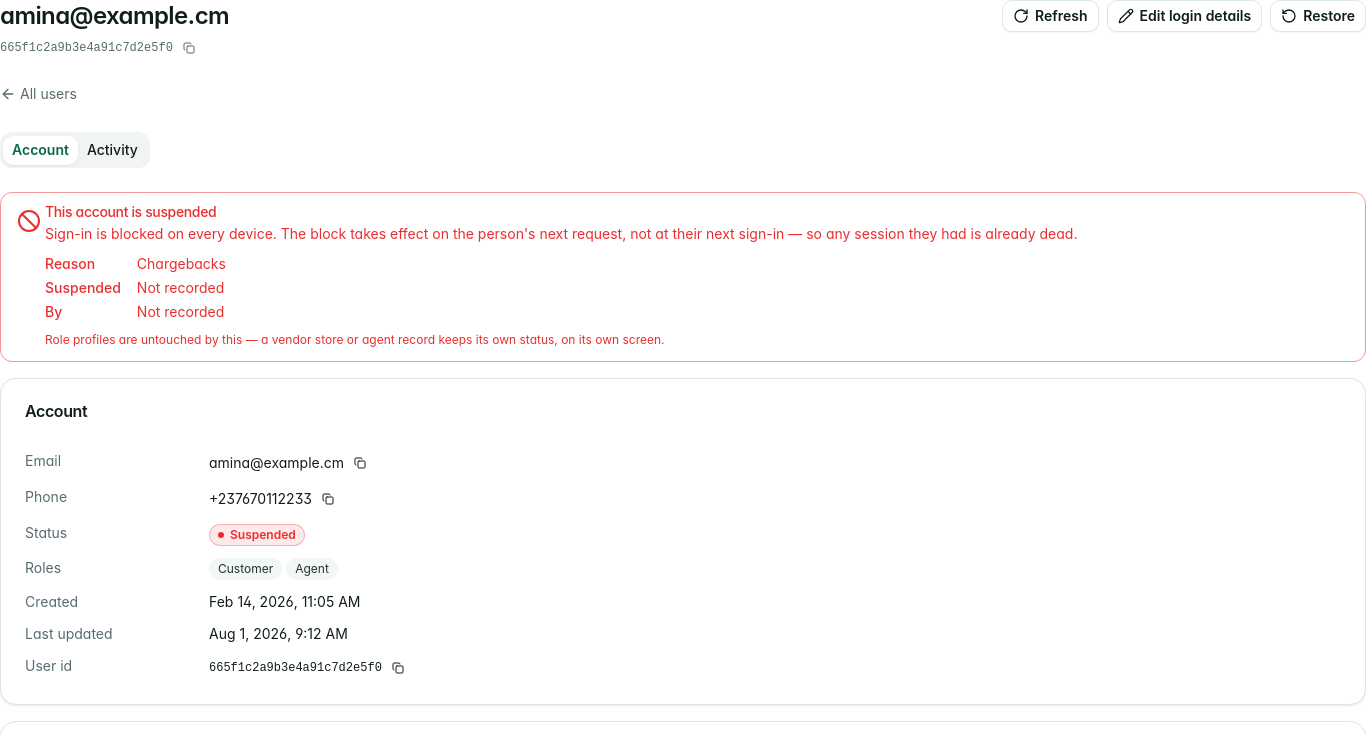
Test case: after a write › refetches the record rather than merging the flat write response
Check: the heading "This account is suspended" is shown, box x1=45 y1=203 x2=216 y2=220
Click the button "Restore" at (1318,16), box x1=1270 y1=0 x2=1365 y2=32
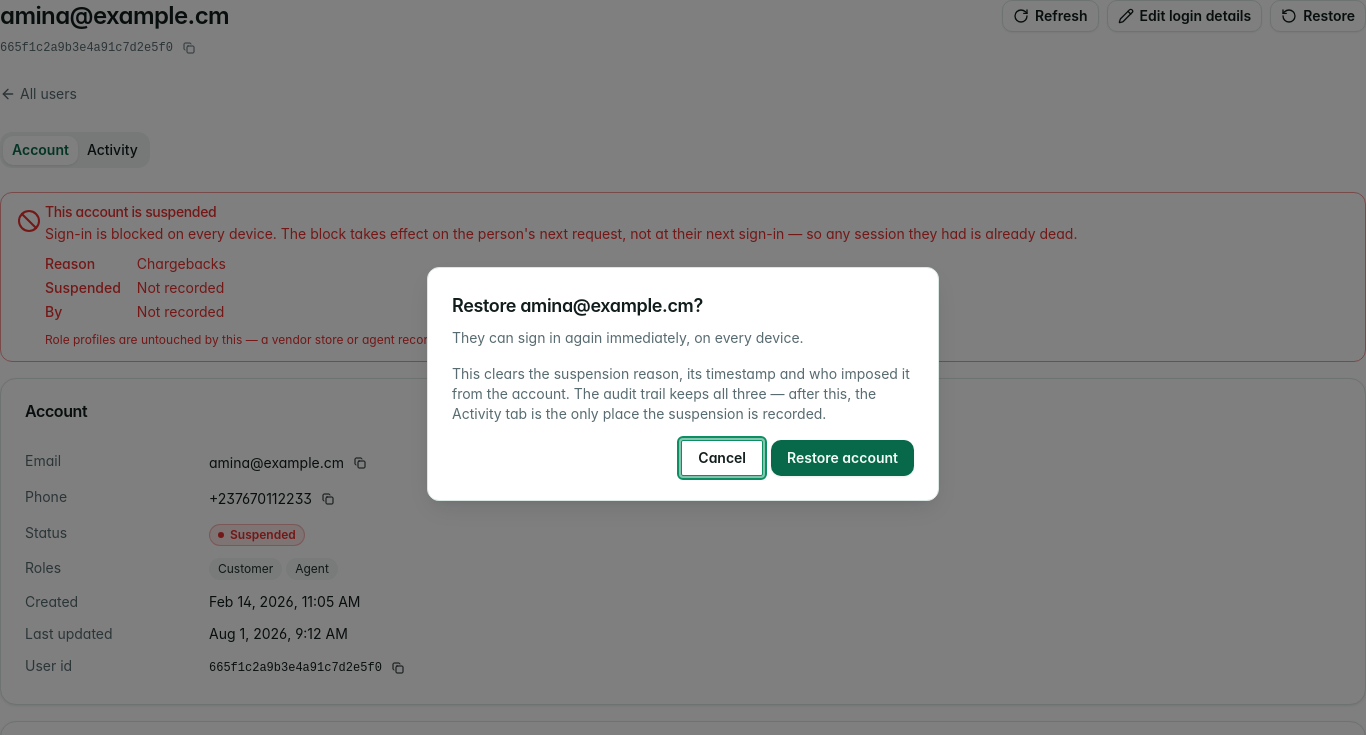
Click the button "Restore account" at (842,458), box x1=771 y1=440 x2=914 y2=476
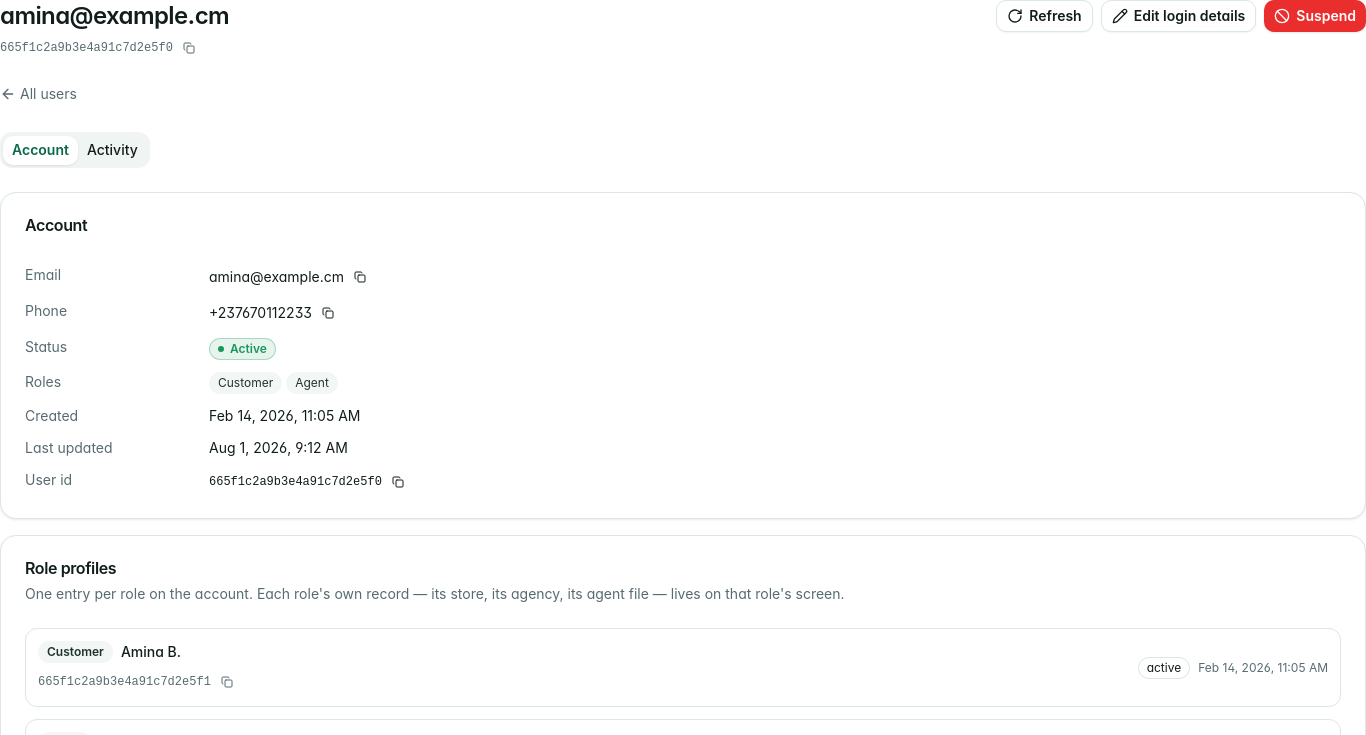
Check: the heading "This account is suspended" is gone
